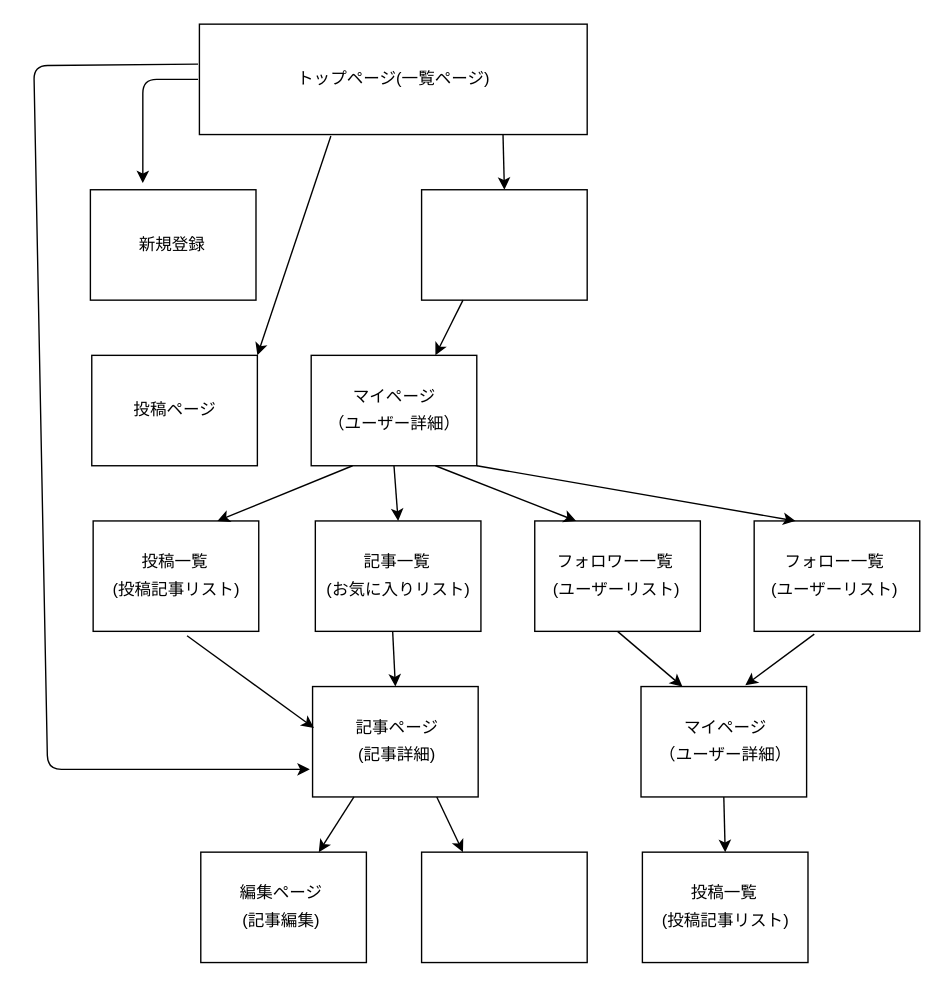
Some shapes in this 944 by 987 pixel diagram are drawn without their labels. The centre of each missing label's shape, as x and y in pixels:
ユーザーログイン: point (503, 244)
削除完了ページ: point (503, 907)
